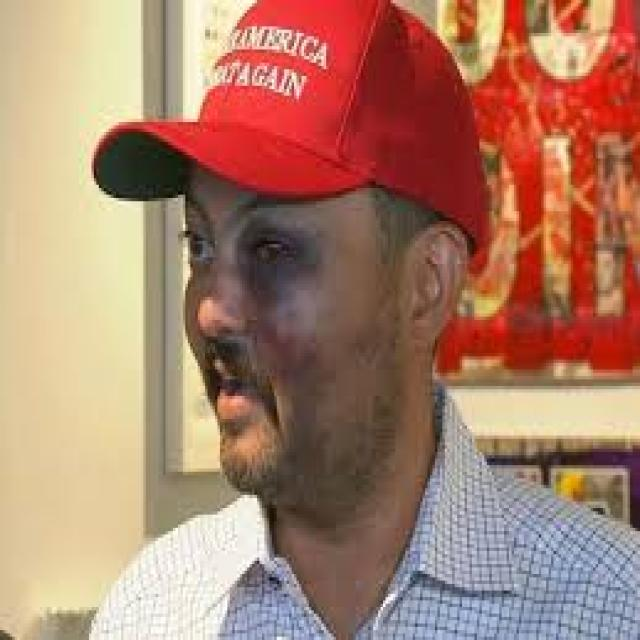3_gorra: (88, 0, 495, 247)
